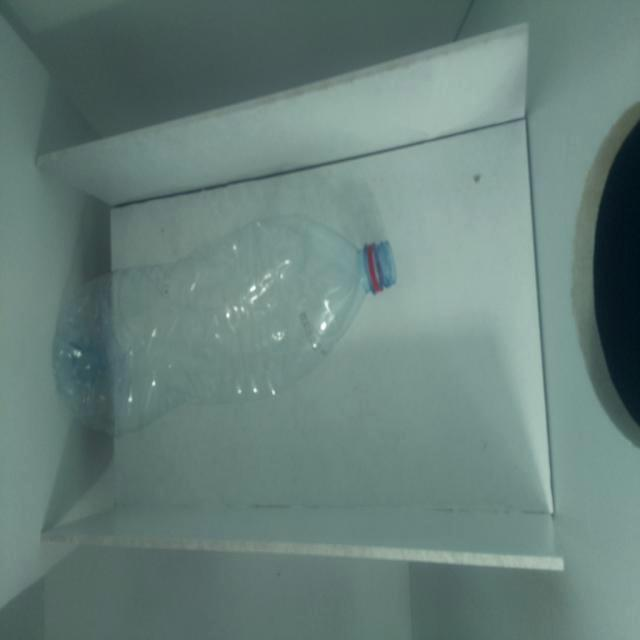bottle: (55, 214, 397, 436)
